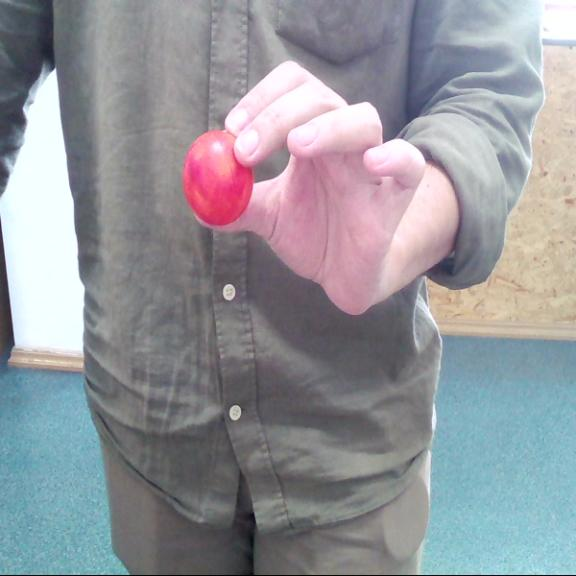ball: (186, 130, 252, 225)
